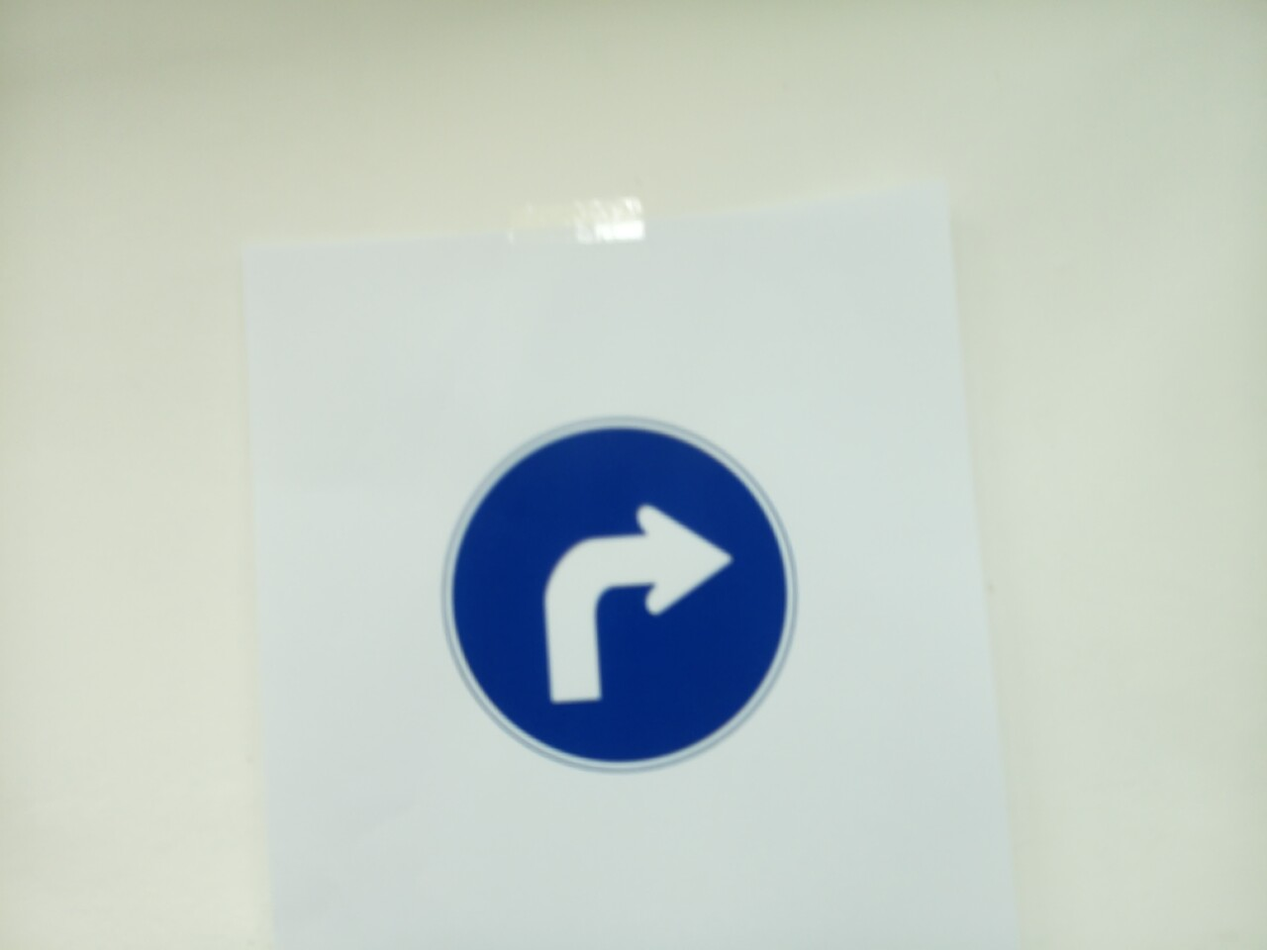right_turn: (441, 418, 797, 773)
